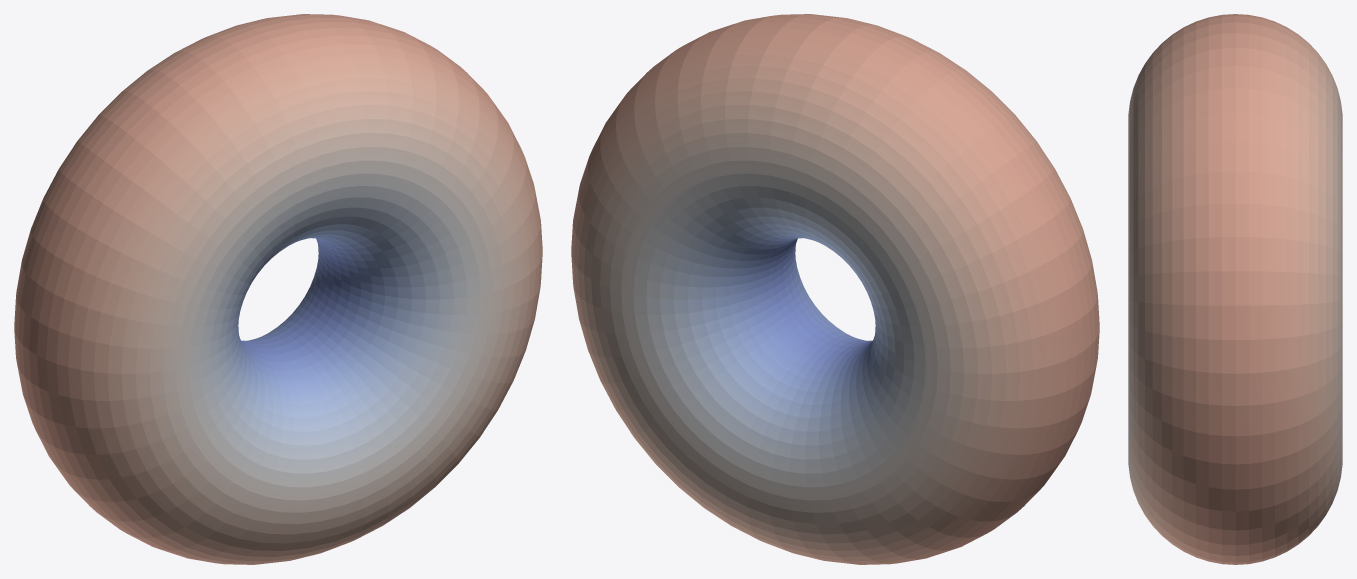
3 renders of one model, left to right at view 1: azimuth 30°, elevation 25°; view 2: azimuth 150°, elevation 25°; view 3: azimuth 270°, elevation 25°, orthographic. The views are drawn at different scales.
Parts seen in each view (by area): view 1: world; view 2: world; view 3: world.
Boxes of the visible parts, x1,y1,x2,y2 form: world: [14, 14, 542, 564]; world: [571, 14, 1099, 564]; world: [1128, 14, 1342, 564].
Size of the model in its own units: 22.93 by 22.89 by 8.92.
